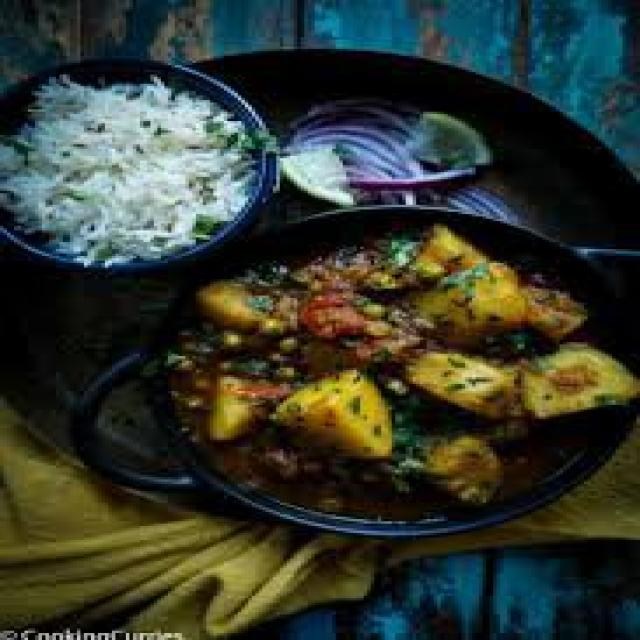Aloo Matar: (188, 236, 638, 511)
